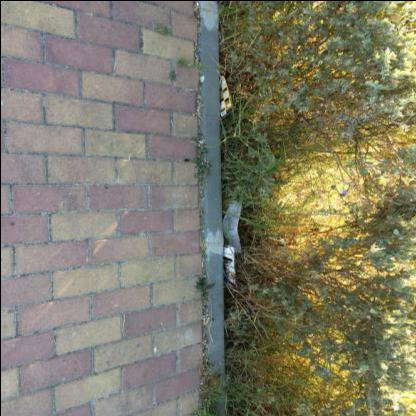Cigarette: (205, 316, 209, 323), (193, 5, 197, 11), (202, 317, 204, 324)
Paper: (221, 200, 241, 252), (218, 69, 232, 120), (222, 243, 236, 292)
